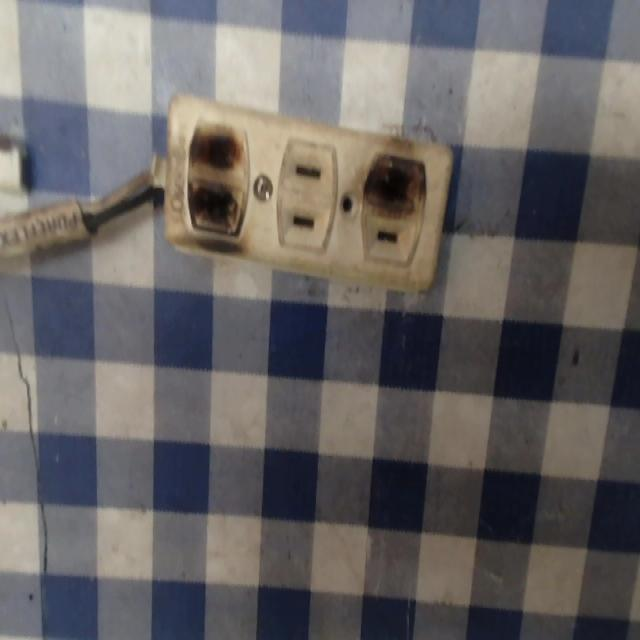-: (182, 111, 250, 249), (359, 150, 430, 222)
